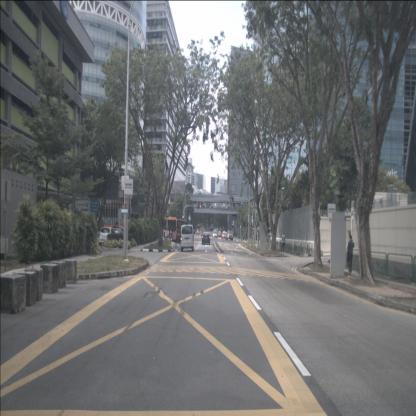human-pedestrian-adult: (346, 235, 355, 274), (280, 231, 286, 252), (242, 232, 245, 241), (245, 231, 247, 241), (240, 232, 242, 241)
movable_object-barrier: (0, 271, 28, 316), (14, 268, 37, 306), (24, 265, 44, 301), (40, 261, 60, 295), (62, 258, 78, 284), (53, 262, 67, 289)
vehicle-bus-rigid: (162, 217, 188, 242)
vehicle-car: (181, 224, 194, 252), (99, 226, 117, 246), (112, 225, 127, 242), (202, 232, 210, 245), (226, 231, 234, 240), (222, 232, 228, 240), (212, 231, 218, 238)
